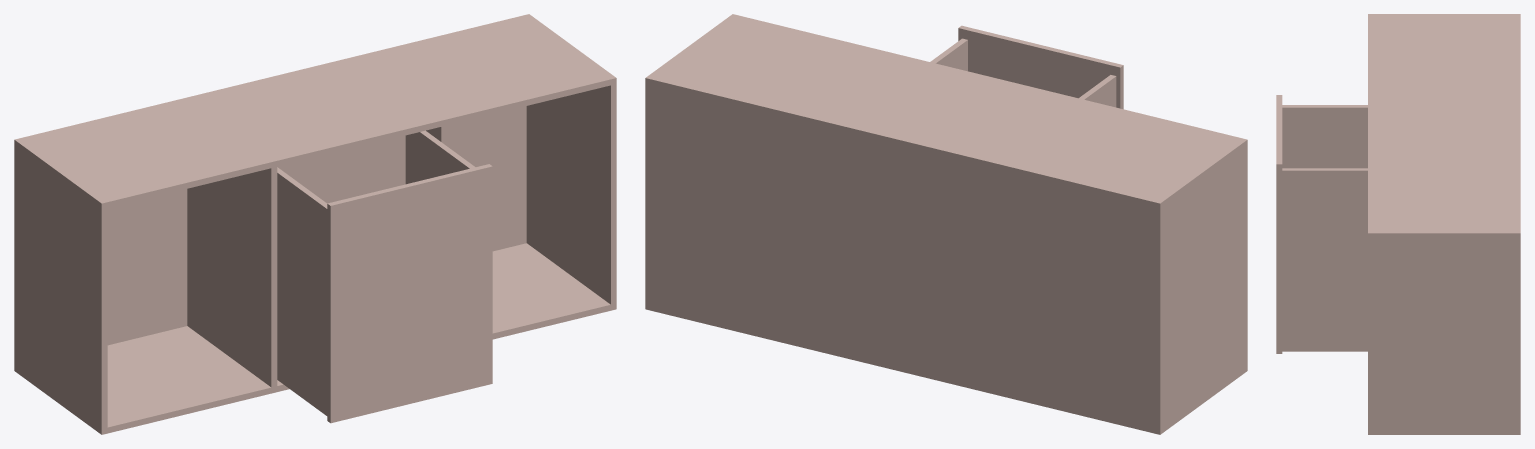
The model's file is meuble_690f7bdfd9f09.glb.
The picture shows the model from 3 angles, left to right: view 1: azimuth 30°, elevation 25°; view 2: azimuth 150°, elevation 25°; view 3: azimuth 270°, elevation 25°; orthographic projection. The views are drawn at different scales.
Visible parts, largest first — view 1: world; view 2: world; view 3: world.
Part boxes in pixels (x1,y1,x2,y2): world: [14, 14, 616, 434]; world: [645, 14, 1247, 434]; world: [1276, 14, 1520, 434].
Bounding box in the file's own units: 1.7 × 0.73 × 0.8.
